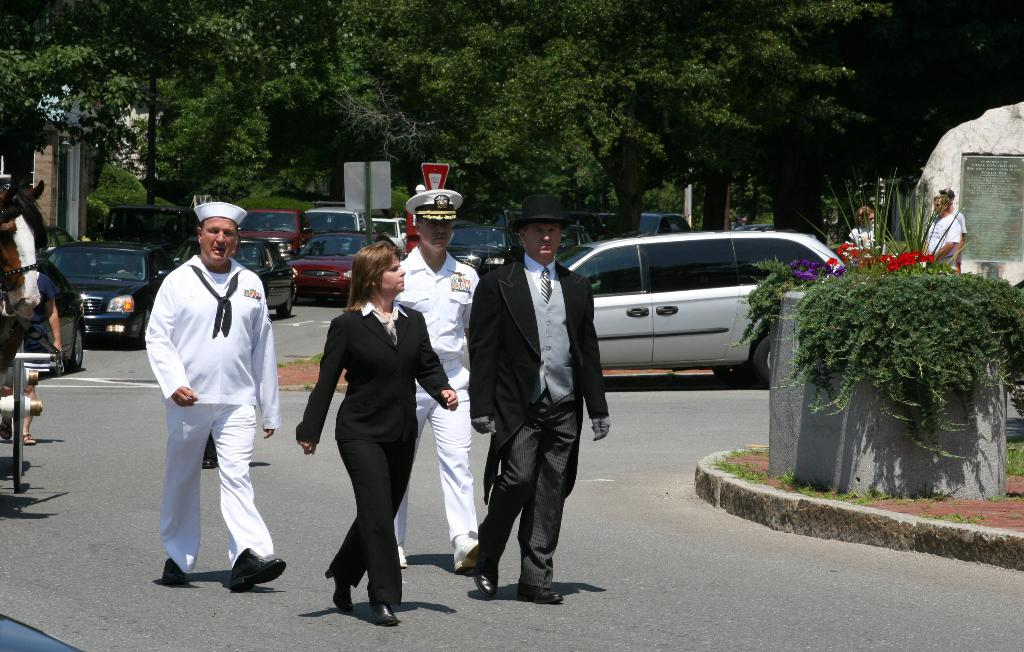Car: (39, 207, 853, 391)
